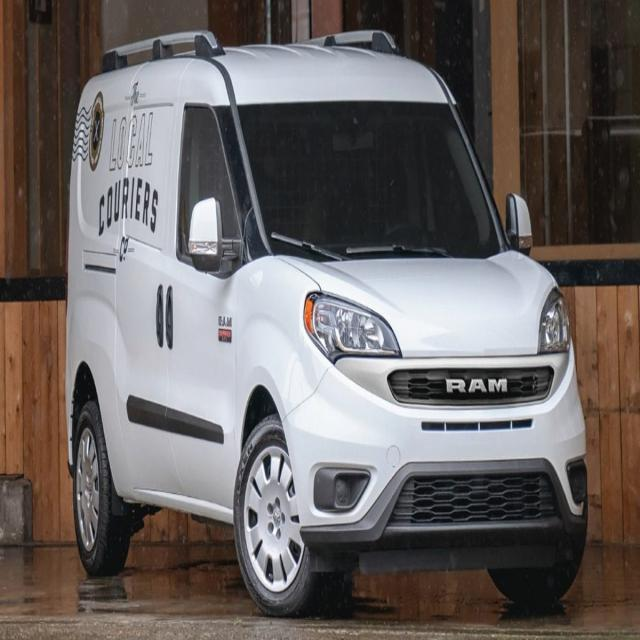truck: (64, 27, 589, 618)
